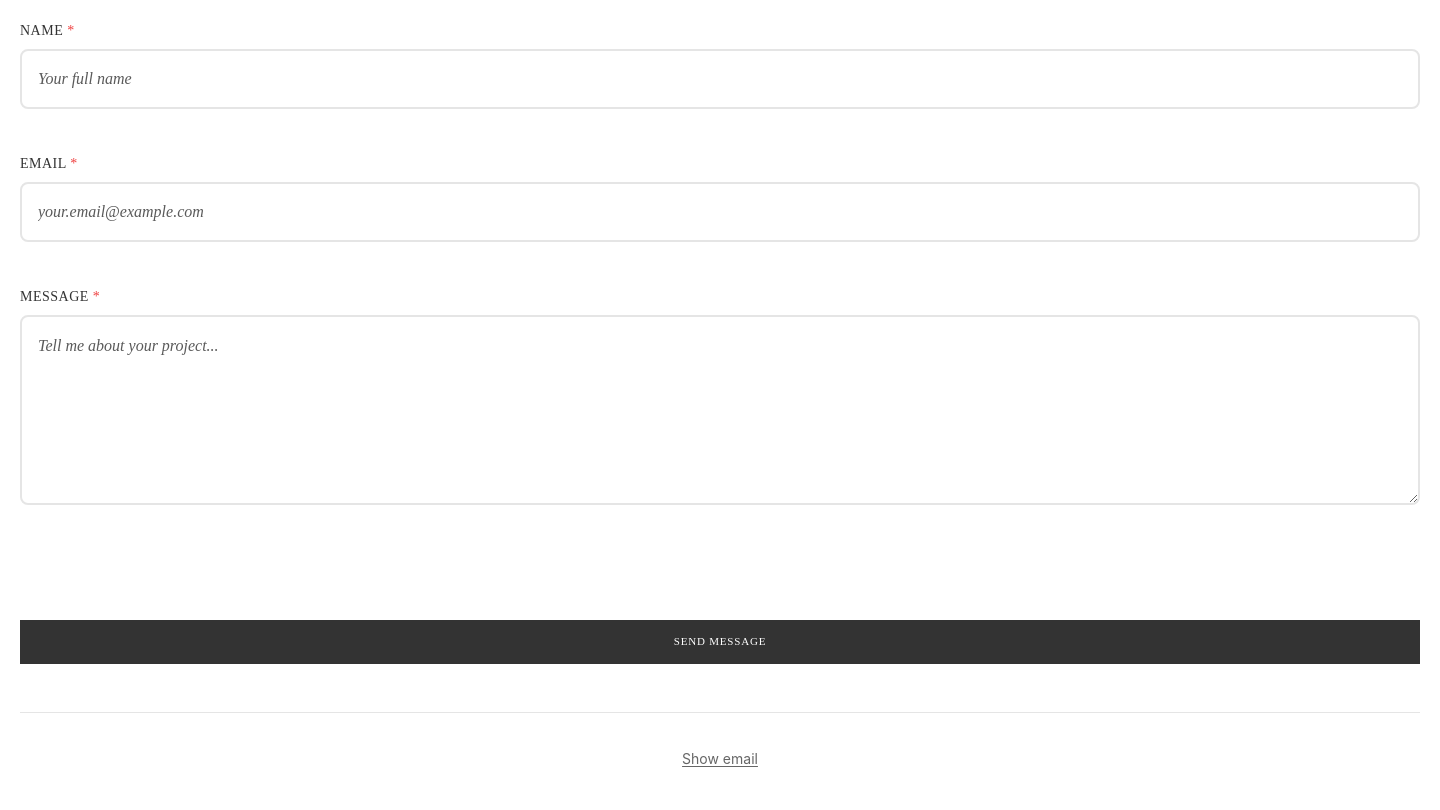
Test: MobileContactForm › Form Validation › should_show_error_for_empty_required_message_field
In the field labelled "Name *": (720, 79) [20,49,1420,109], type "John Doe"
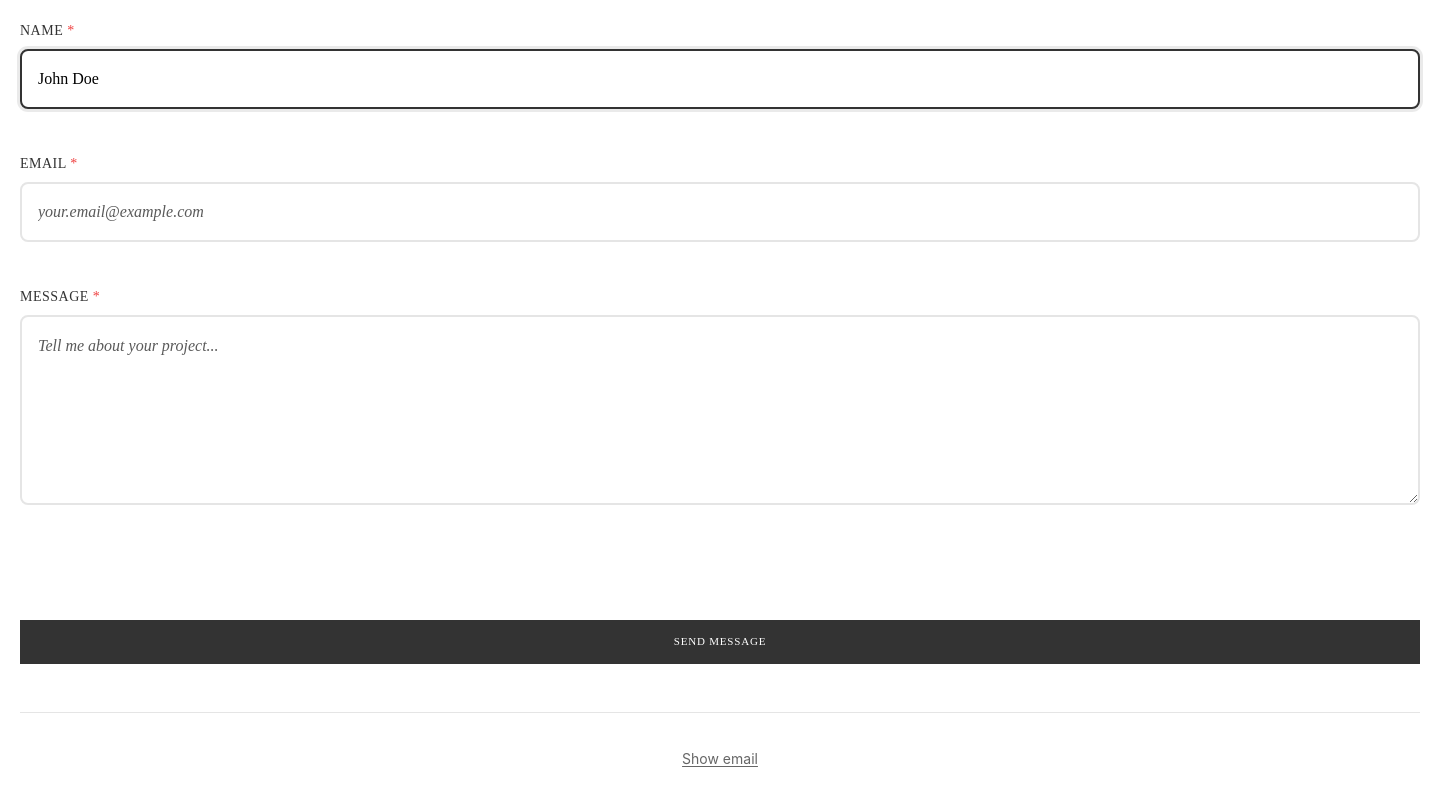
In the field labelled "Email *": (720, 212) [20,182,1420,242], type "test@example.com"
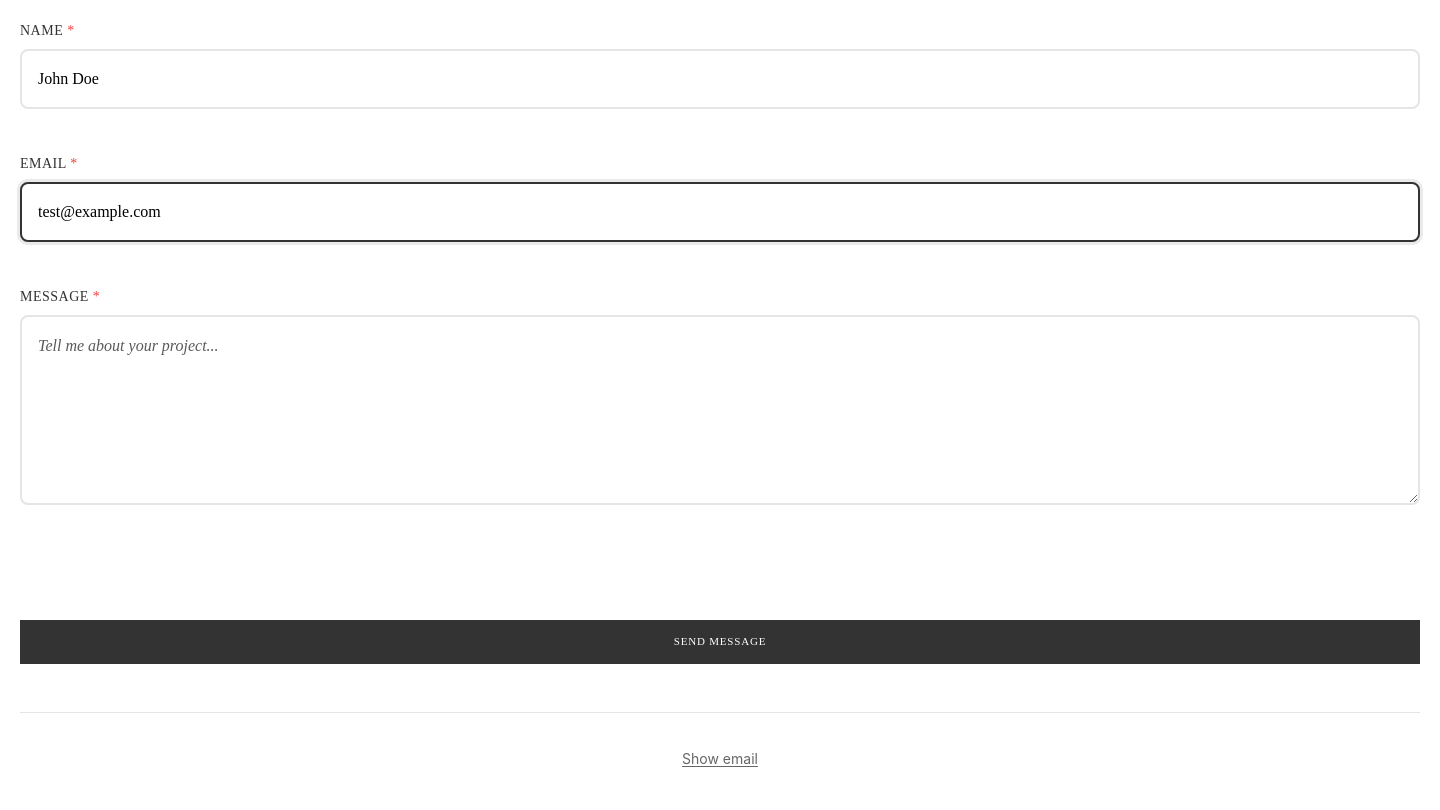
Click the button "Send Message": (720, 642) [20,620,1420,664]
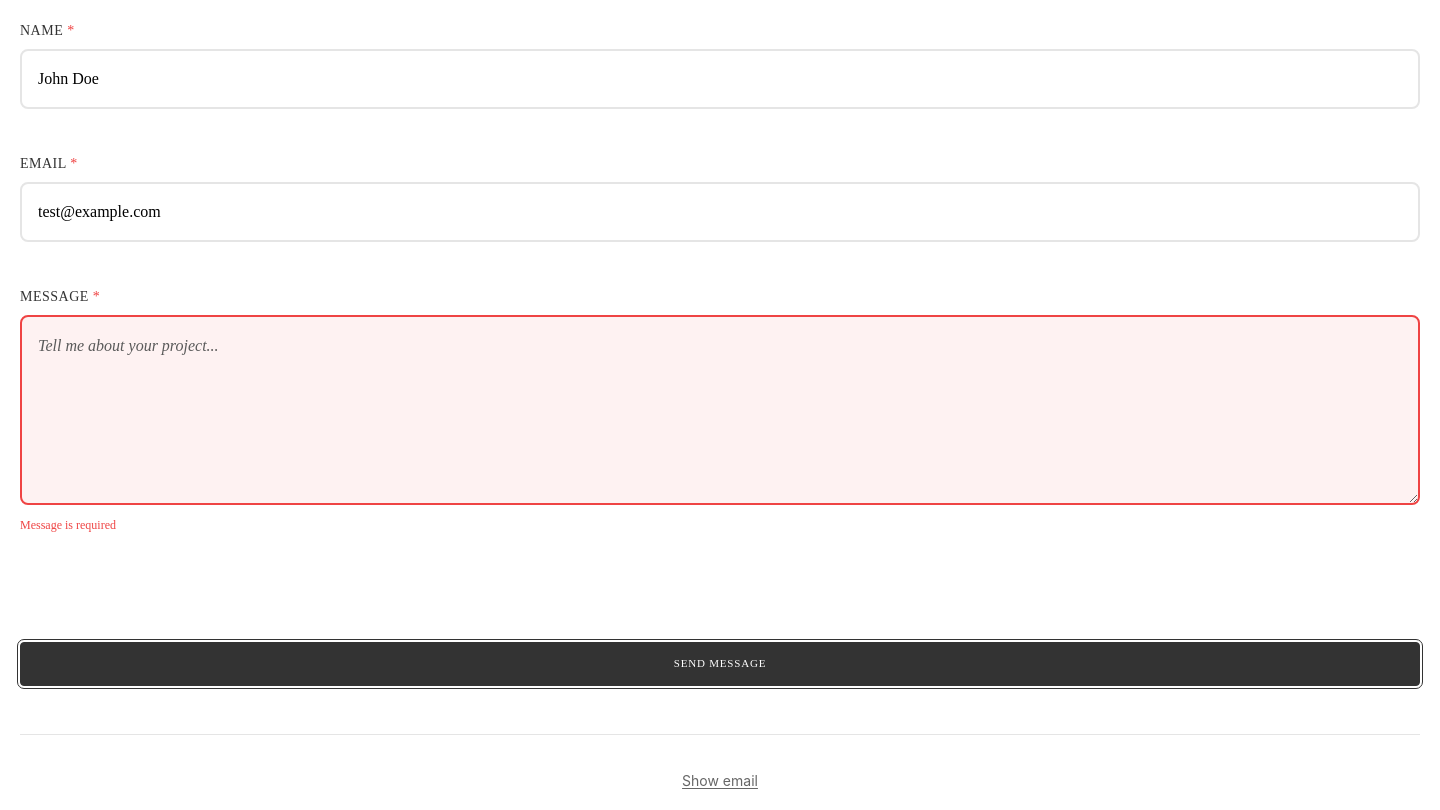
Now the text "Message is required" is shown, box [20,518,116,532]
